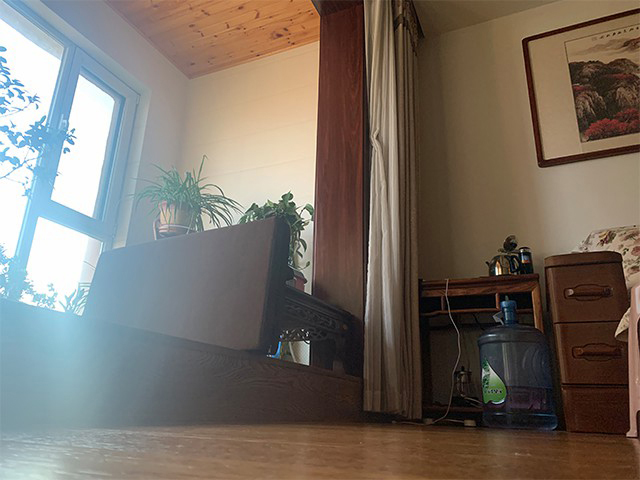curtain: (360, 1, 421, 421)
sofa: (543, 225, 640, 433)
table: (418, 272, 548, 417)
wire: (389, 279, 477, 427)
